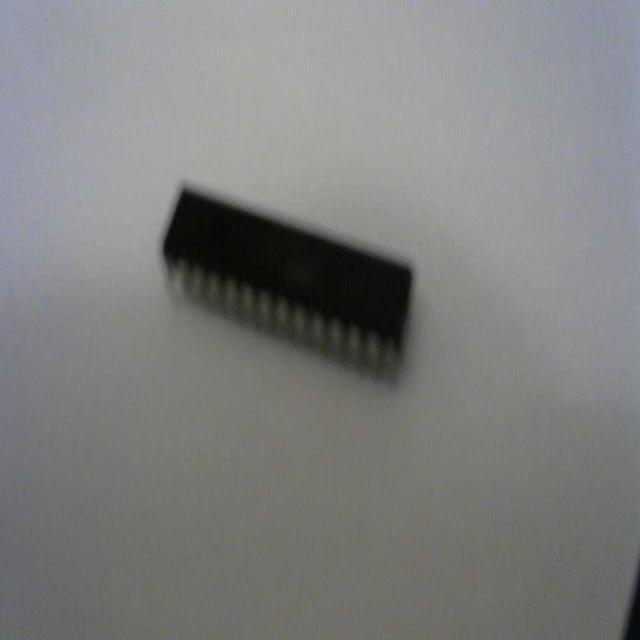atmega: (159, 179, 416, 389)
